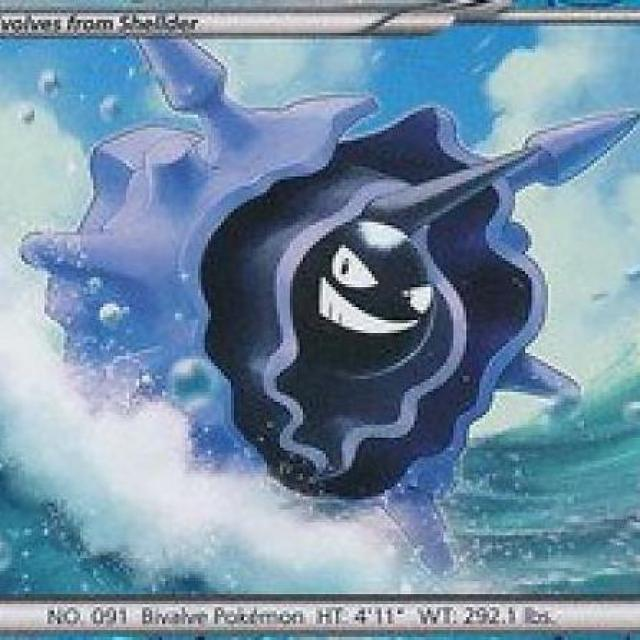Cloyster: (35, 40, 564, 532)
